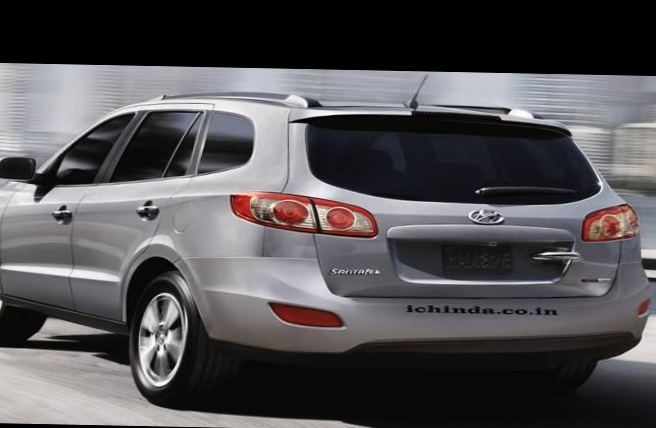car: (0, 84, 656, 418)
